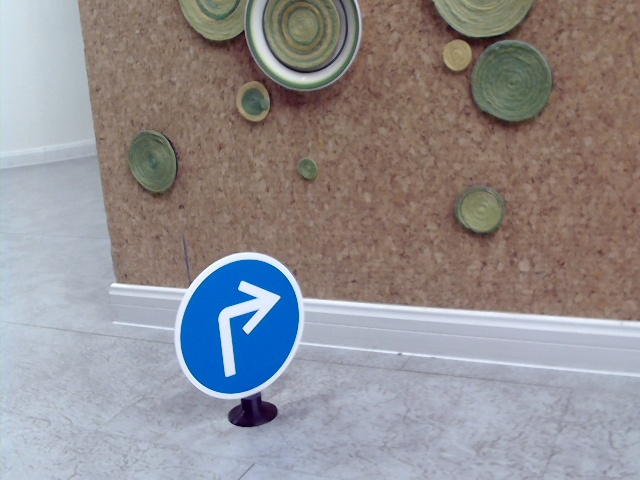turn_right: (207, 282, 281, 373)
